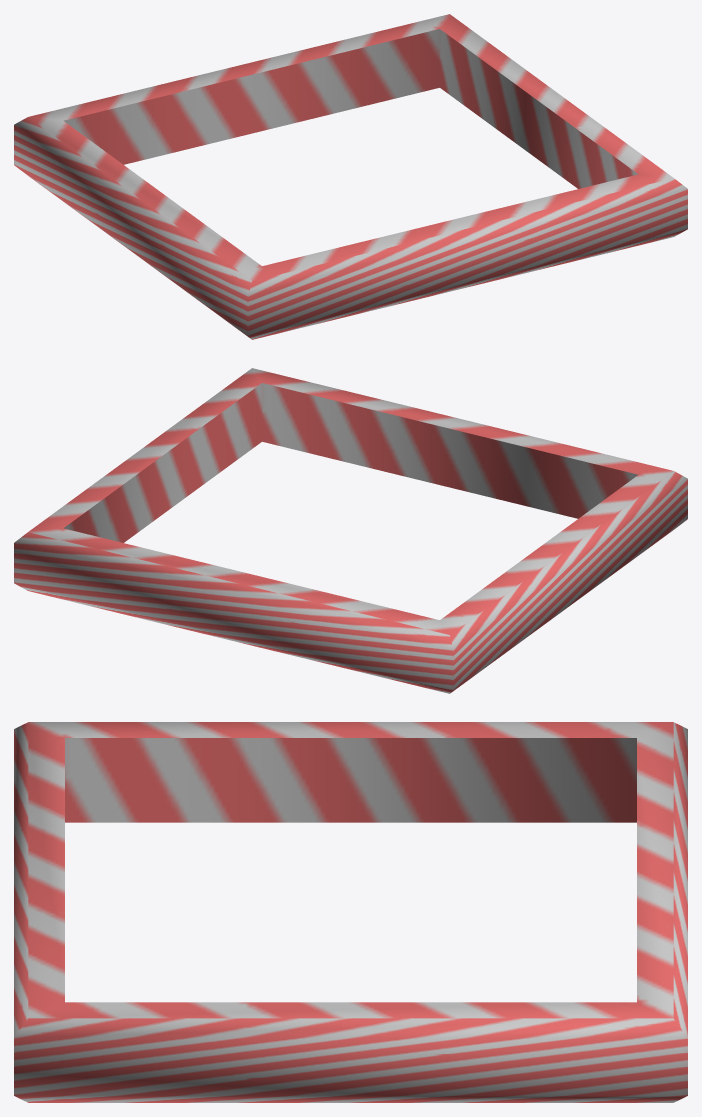
File: CoverObstacle.fbx
The picture shows the model from 3 angles, top to bottom: view 1: azimuth 30°, elevation 25°; view 2: azimuth 150°, elevation 25°; view 3: azimuth 270°, elevation 25°; orthographic projection. The views are drawn at different scales.
Parts seen in each view (by area): view 1: bluewall.3; view 2: bluewall.3; view 3: bluewall.3.
Part boxes in pixels (x1=…): bluewall.3: x1=14, y1=14, x2=687, y2=339; bluewall.3: x1=14, y1=368, x2=687, y2=693; bluewall.3: x1=14, y1=722, x2=687, y2=1102.
Size of the model in its own units: 199 by 25.51 by 184.
Materials: 1 (1 with a texture image).
